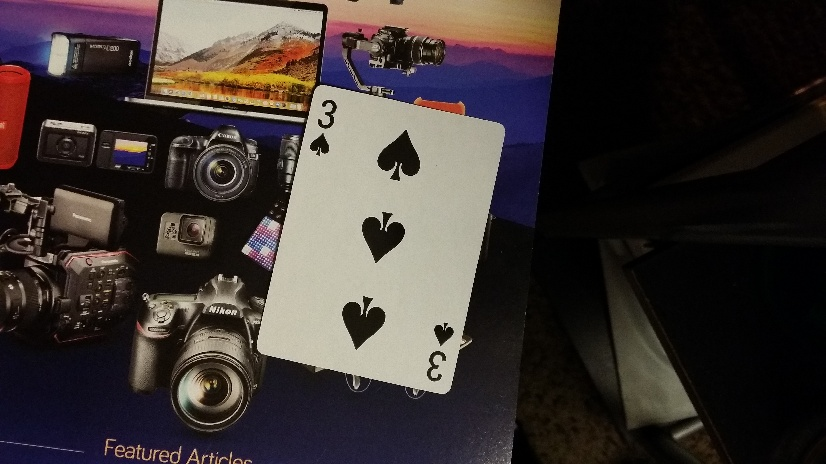S3: (309, 96, 342, 163), (425, 315, 454, 383)
